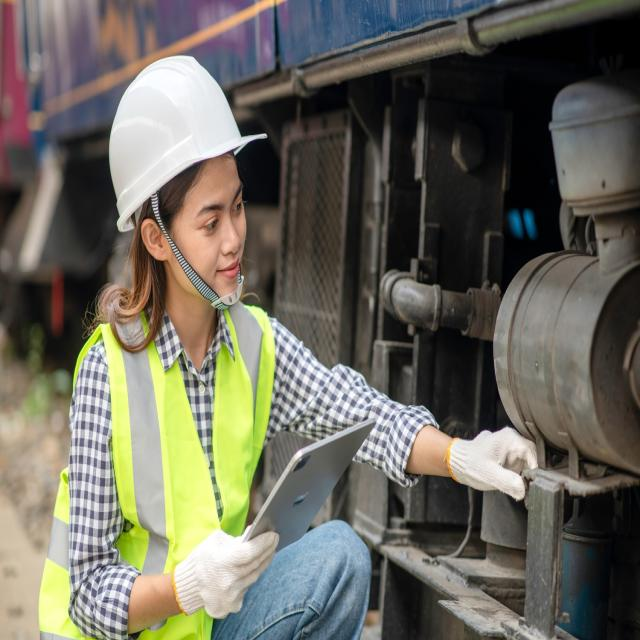helmet: (115, 56, 265, 235)
no-goggles: (139, 202, 255, 241)
vest: (49, 305, 277, 640)
